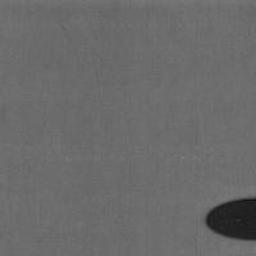Punching: (206, 198, 256, 241)
